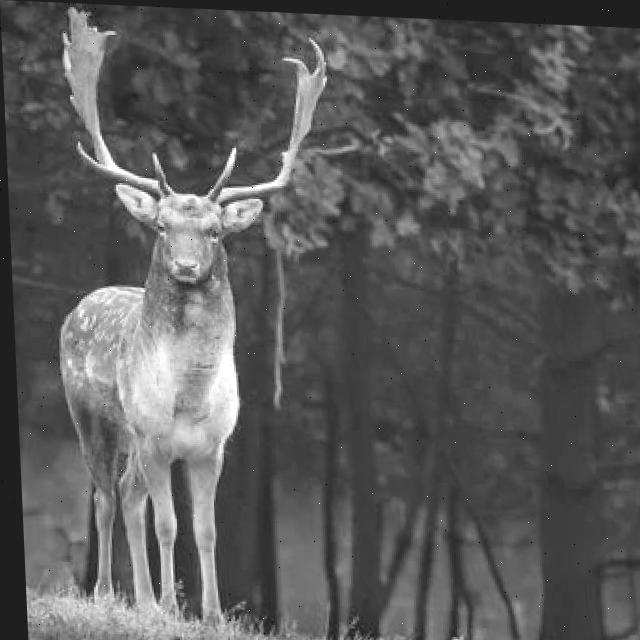Deer: (14, 69, 392, 539)
